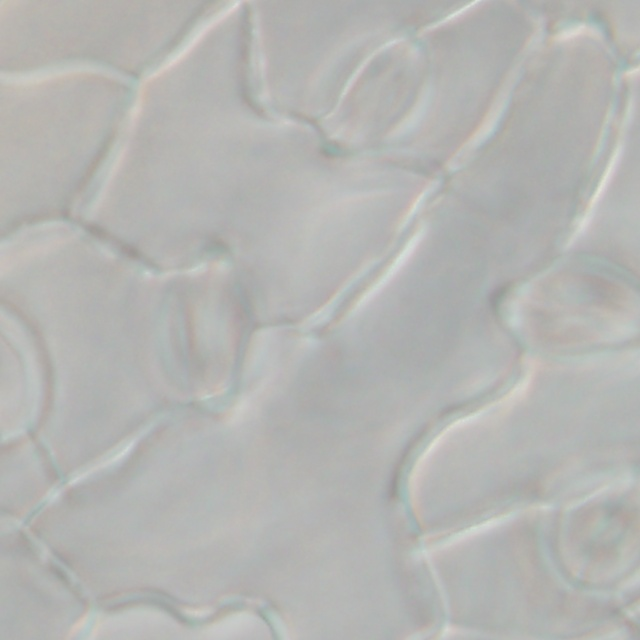center: (586, 505, 631, 555), (534, 307, 599, 328)
stomata-huw1: (494, 253, 639, 382), (538, 457, 639, 596)
